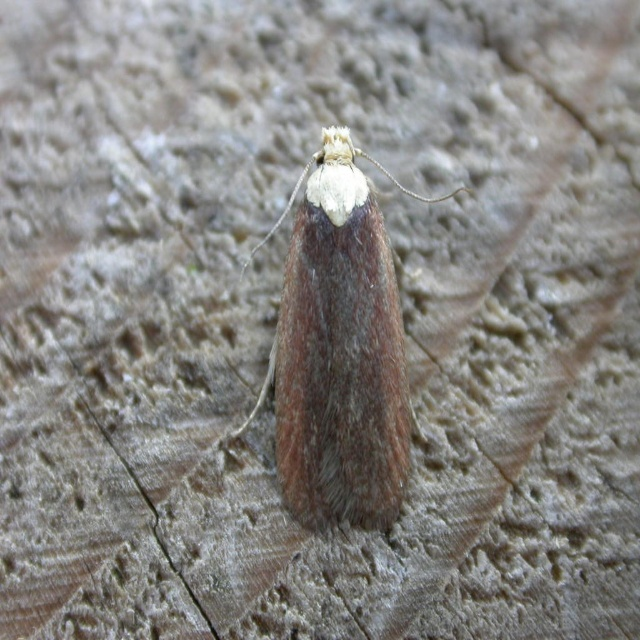Moths and butterflies: (226, 123, 474, 540)
